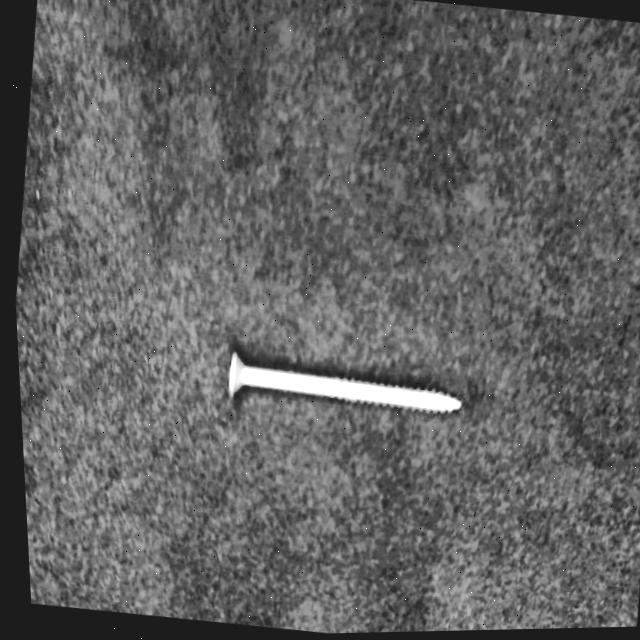Wood screw: (218, 347, 462, 427)
